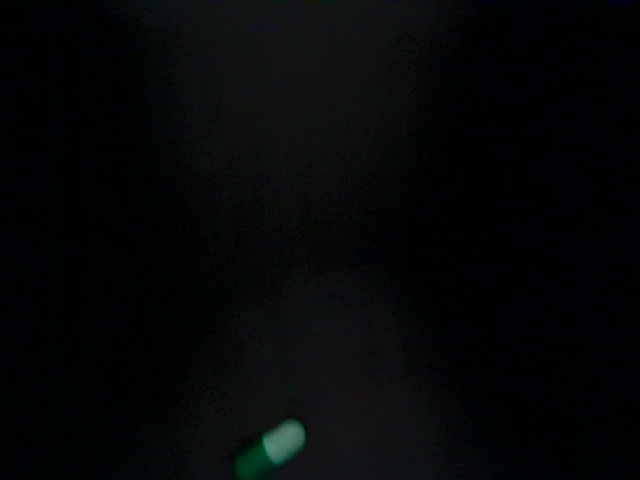YHLJ: (224, 154, 491, 246)
